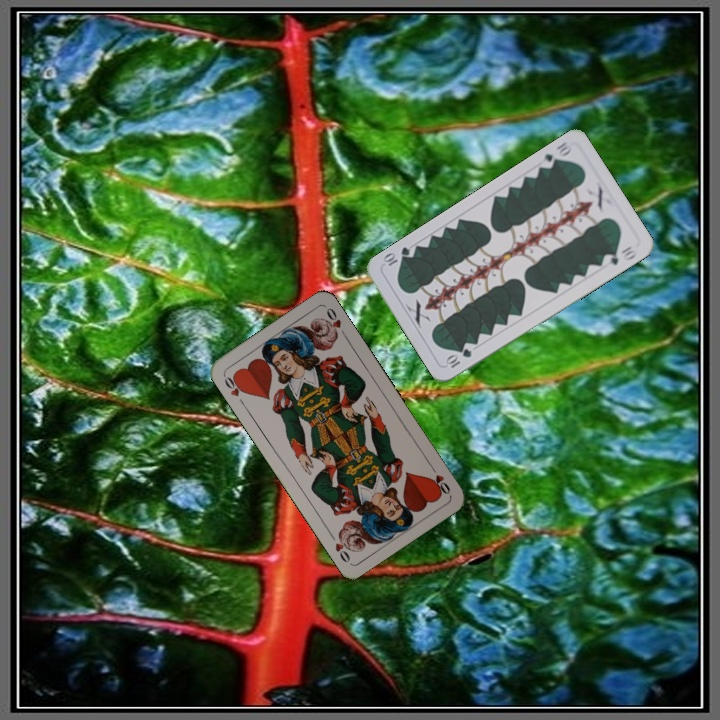G10: (536, 137, 574, 172), (442, 344, 474, 371)
HO: (220, 371, 248, 408), (426, 461, 453, 497)
